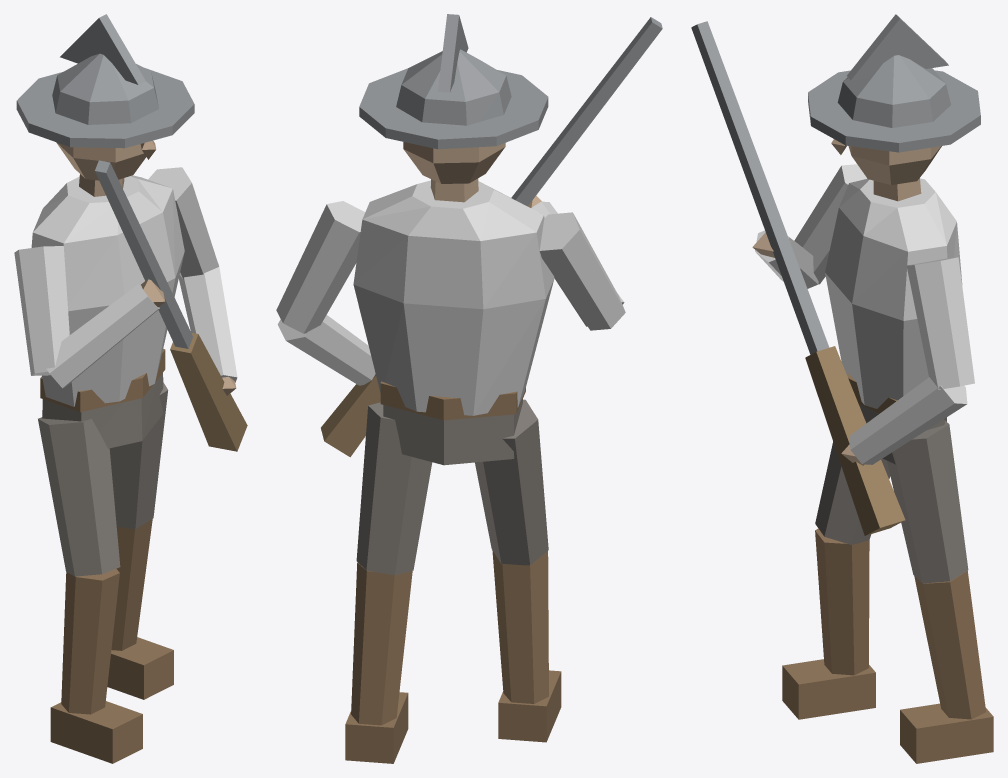
Rendered from musketman.glb.
The picture shows the model from 3 angles, left to right: view 1: azimuth 30°, elevation 25°; view 2: azimuth 150°, elevation 25°; view 3: azimuth 270°, elevation 25°; orthographic projection. The views are drawn at different scales.
Visible parts, largest first — view 1: LOD0; view 2: LOD0; view 3: LOD0.
Part boxes in pixels (x1,y1,x2,y2): LOD0: (14,14,247,763); LOD0: (276,14,662,763); LOD0: (691,14,993,763).
Size of what is drawn, in the model's own units: 0.4042 by 1.04 by 0.4042.
